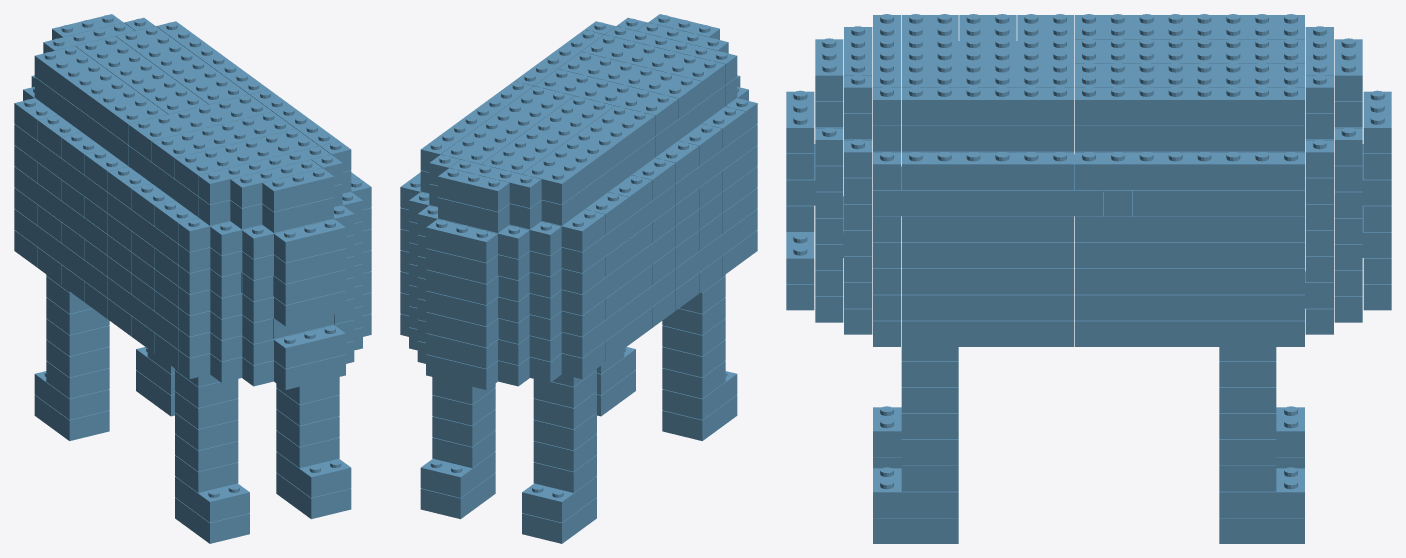
File: 136_car_L1.glb
3 views of the same model, side by side, from view 1: azimuth 30°, elevation 25°; view 2: azimuth 150°, elevation 25°; view 3: azimuth 270°, elevation 25° (orthographic). The views are drawn at different scales.
Bounding box in the file's own units: 8.98 × 17.13 × 20.98.
